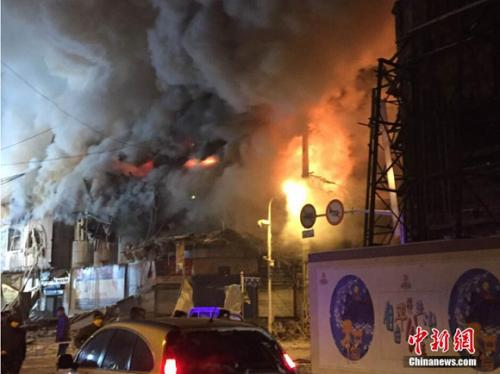fire: (265, 106, 358, 250)
smoke: (18, 10, 259, 218)
